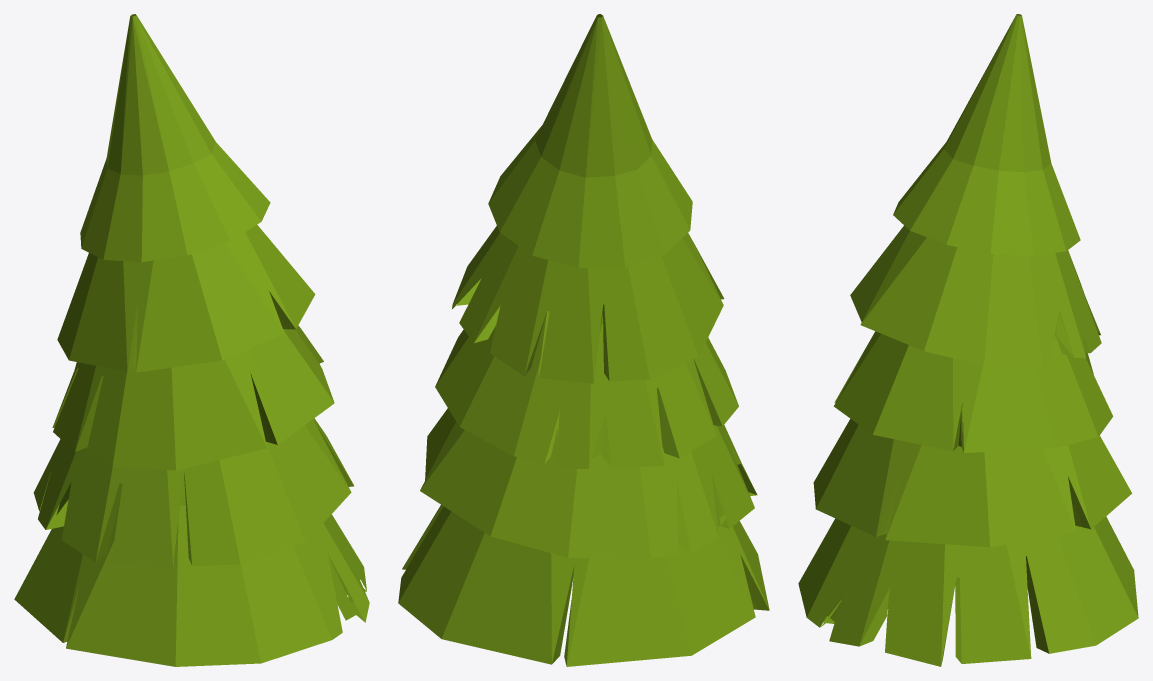
File: tree-summer-leaves-15-046.glb
The picture shows the model from 3 angles, left to right: view 1: azimuth 30°, elevation 25°; view 2: azimuth 150°, elevation 25°; view 3: azimuth 270°, elevation 25°; orthographic projection. The views are drawn at different scales.
Visible parts, largest first — view 1: TREE 15.002_289; view 2: TREE 15.002_289; view 3: TREE 15.002_289.
Boxes of the visible parts, left/top/right/bottom form: TREE 15.002_289: left=14, top=14, right=369, bottom=666; TREE 15.002_289: left=398, top=14, right=769, bottom=666; TREE 15.002_289: left=798, top=14, right=1138, bottom=666.
Bounding box in the file's own units: 0.8423 × 1.5 × 0.8185.
